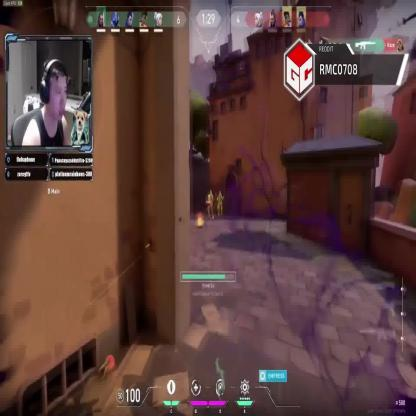enemy: (206, 188, 214, 218), (217, 191, 224, 217)
enemy_head: (210, 189, 212, 195), (219, 191, 221, 195)
